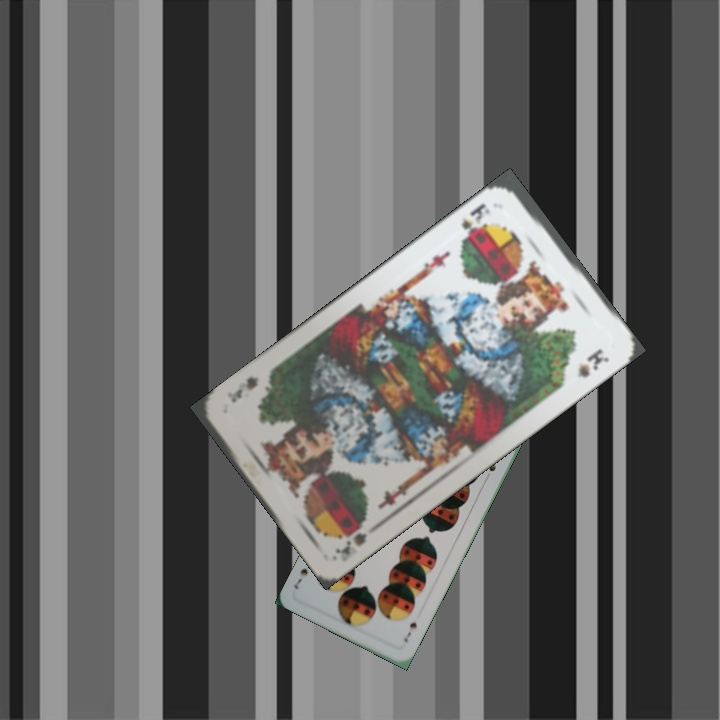S7: (400, 618, 419, 645)
SK: (331, 515, 371, 558), (457, 199, 493, 243)
